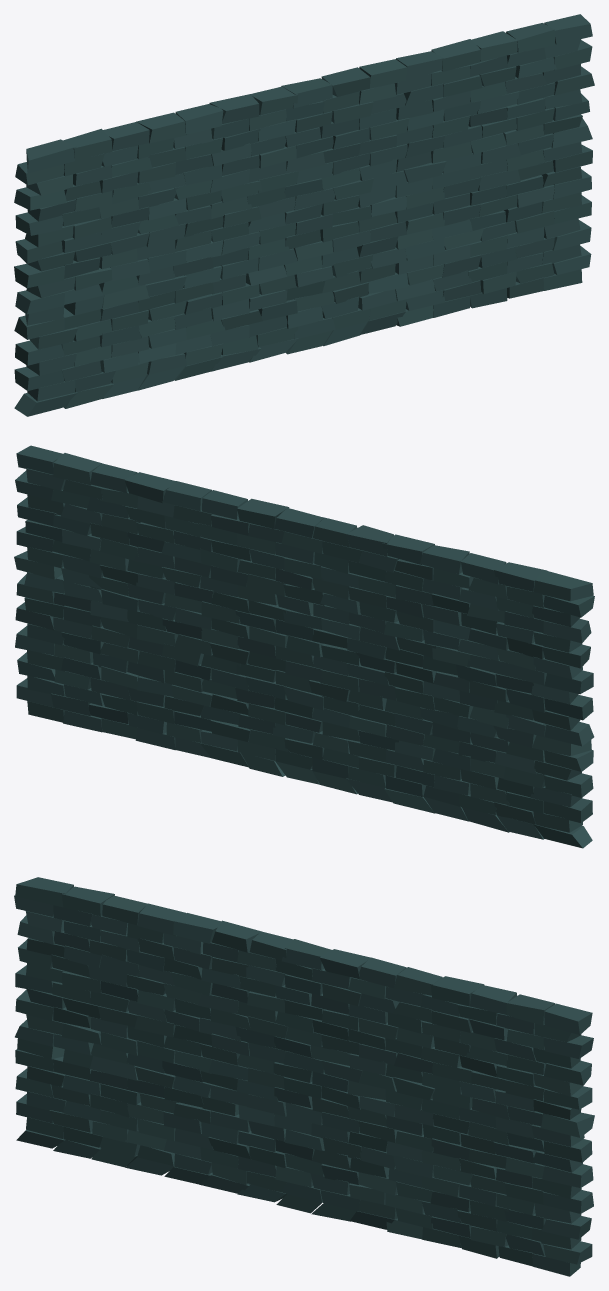
Rendered from Wall.fbx.
3 views of the same model, one above another, from view 1: azimuth 30°, elevation 25°; view 2: azimuth 150°, elevation 25°; view 3: azimuth 330°, elevation 25° (orthographic).
Visible parts, largest first — view 1: Cube; view 2: Cube; view 3: Cube.
Part boxes in pixels (bbox=[...]): Cube: bbox=[14, 14, 594, 416]; Cube: bbox=[14, 445, 594, 848]; Cube: bbox=[14, 877, 594, 1276].
Size of the model in its own units: 1389 by 606 by 60.67.
